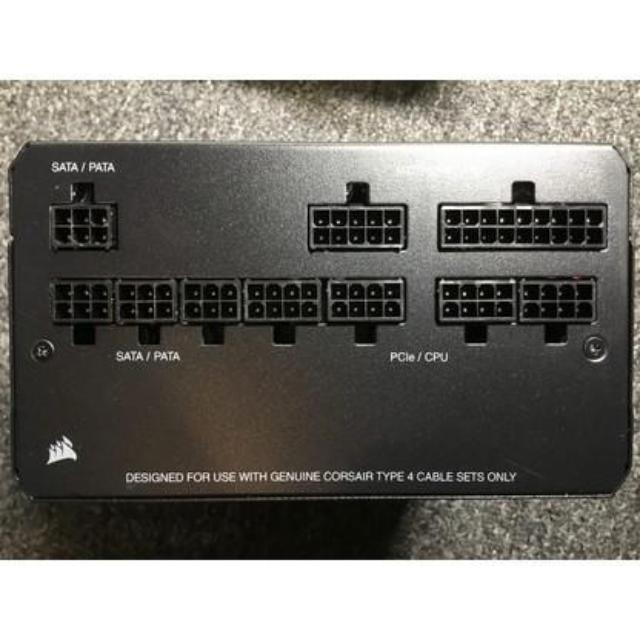PSU: (0, 134, 640, 512)
